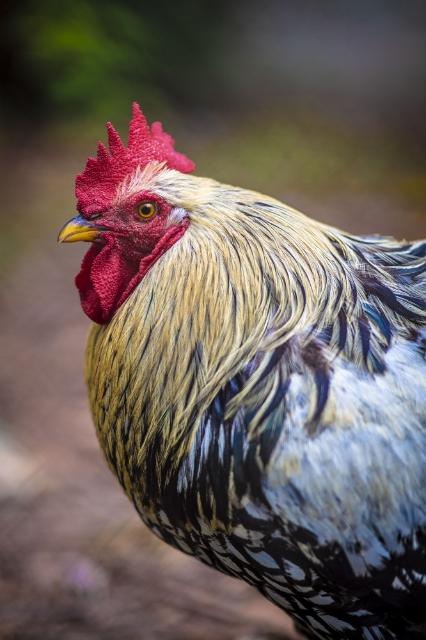Chicken: (58, 98, 426, 640)
